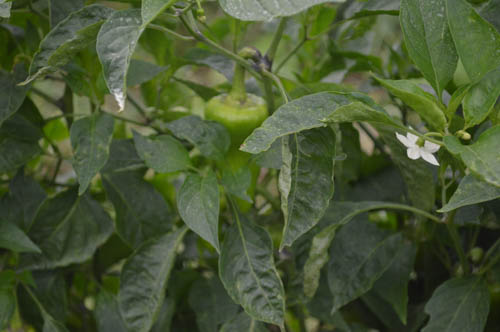ChiliPepper: (200, 98, 267, 211)
